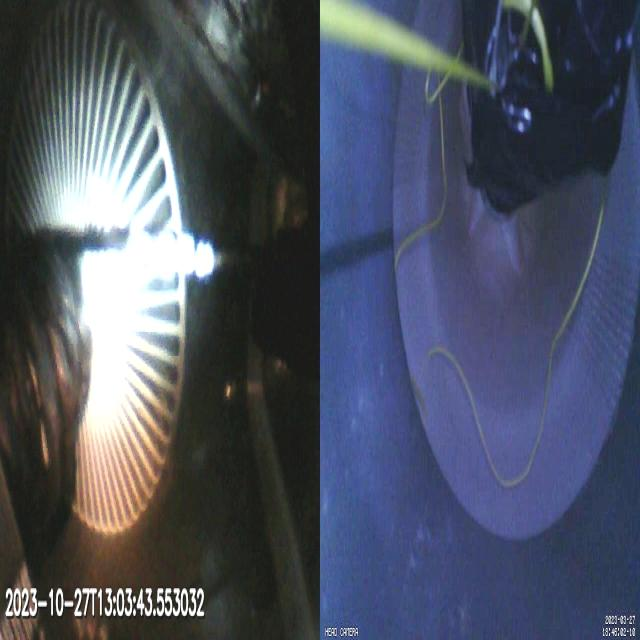white-dots: (158, 226, 216, 282)
